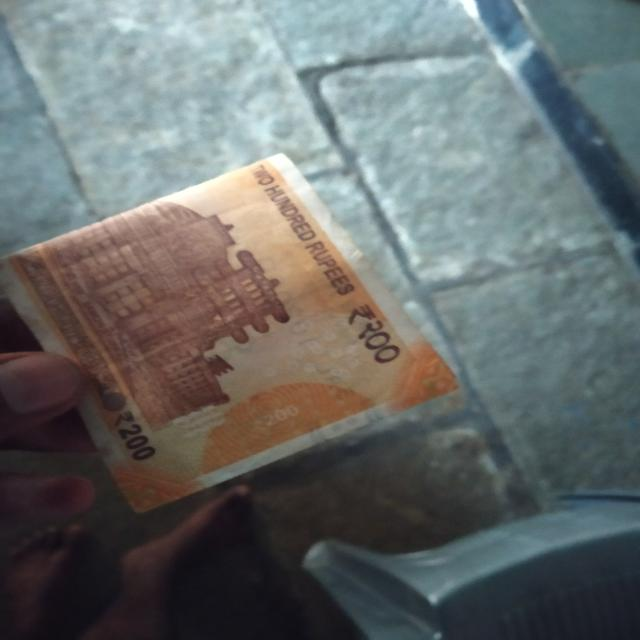200rs: (6, 155, 474, 514)
